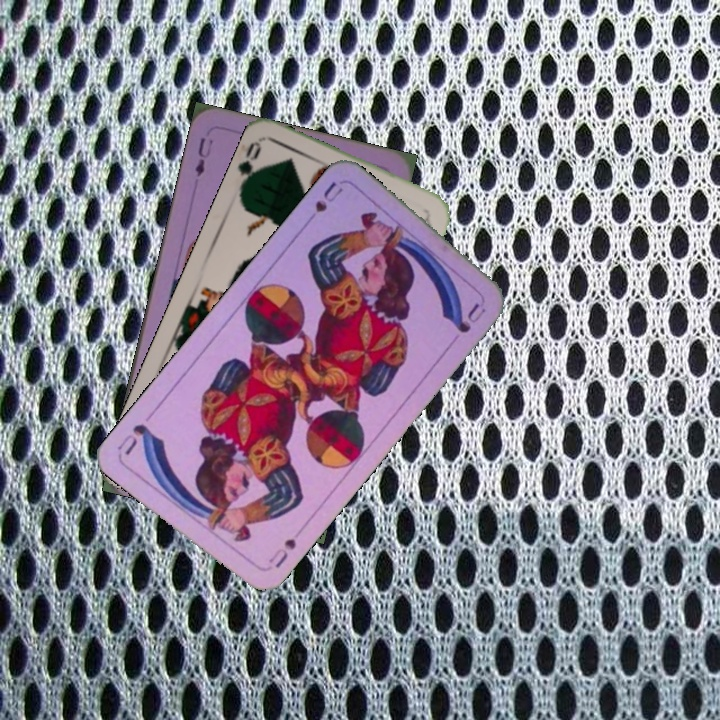EU: (190, 134, 216, 180)
GO: (234, 138, 266, 197)
SU: (300, 177, 346, 229), (264, 534, 299, 571)
